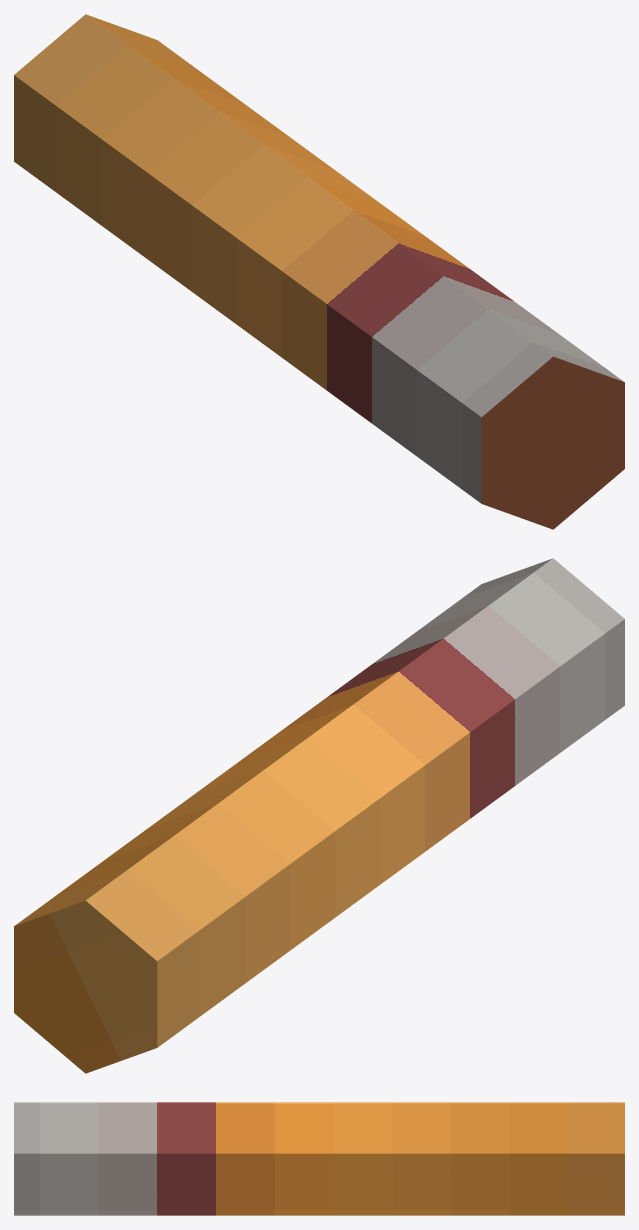
File: Cigarette1.fbx
3 views of the same model, one above another, from view 1: azimuth 30°, elevation 25°; view 2: azimuth 150°, elevation 25°; view 3: azimuth 270°, elevation 25° (orthographic). The views are drawn at different scales.
Visible parts, largest first — view 1: Cigarette1; view 2: Cigarette1; view 3: Cigarette1.
Boxes of the visible parts, x1,y1,x2,y2 form: Cigarette1: (14, 14, 624, 529); Cigarette1: (14, 558, 624, 1073); Cigarette1: (14, 1102, 624, 1215).
Size of the model in its own units: 0.00557 by 0.00644 by 0.0315.
Materials: 1 (1 with a texture image).
